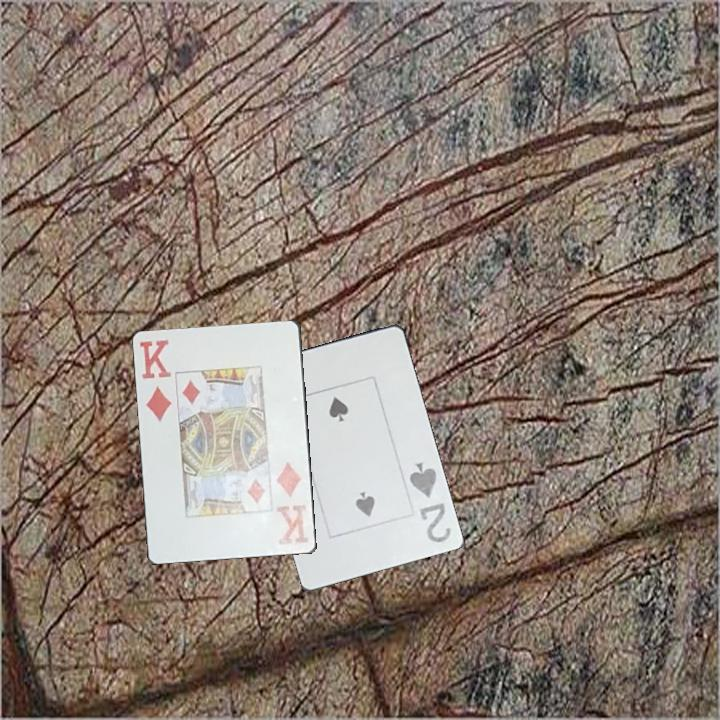2s: (405, 458, 454, 545)
Kd: (273, 459, 312, 549), (136, 336, 175, 425)
